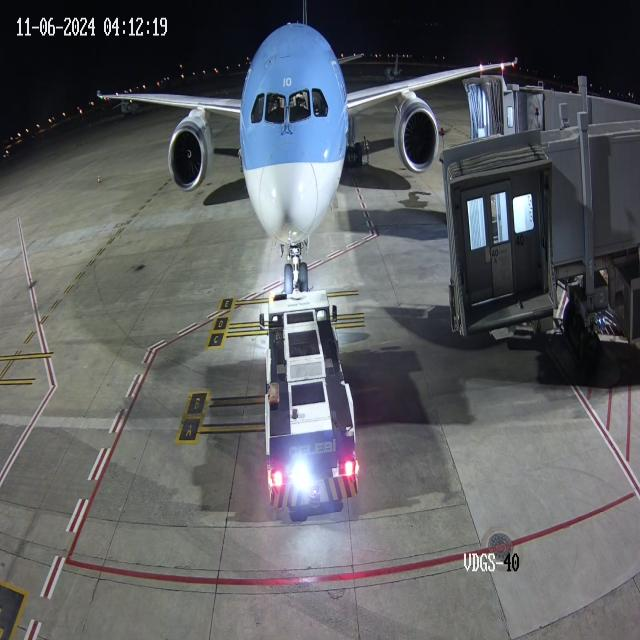bridge: (488, 76, 546, 145)
plane: (86, 0, 439, 293)
window: (248, 82, 333, 127)
